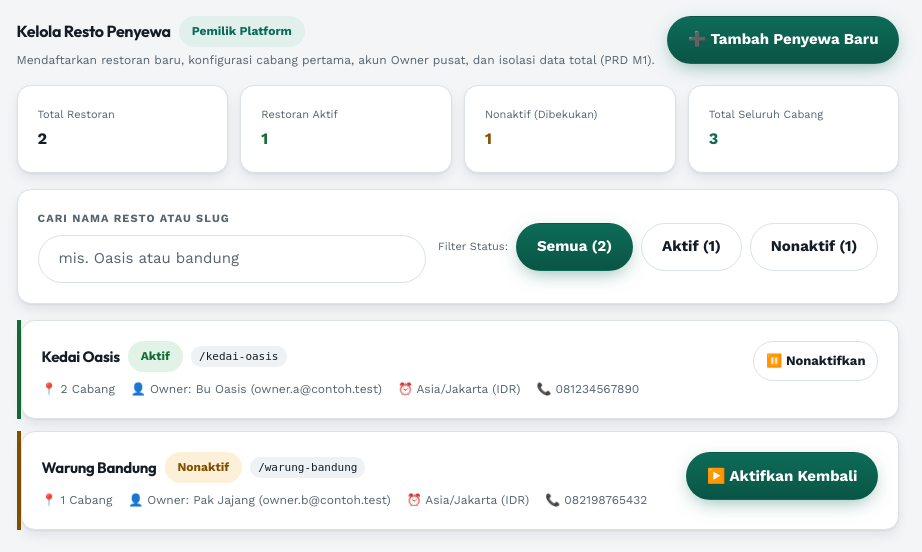
Scenario: LayarPenyewaPlatform (T9-10 / PRD M1 / ART-1) › dapat menyaring resto berdasarkan kata kunci pencarian dan status
Step 1. Type "Bandung" into the field with placeholder "mis. Oasis atau bandung" → (232, 259), box [38,235,426,283]
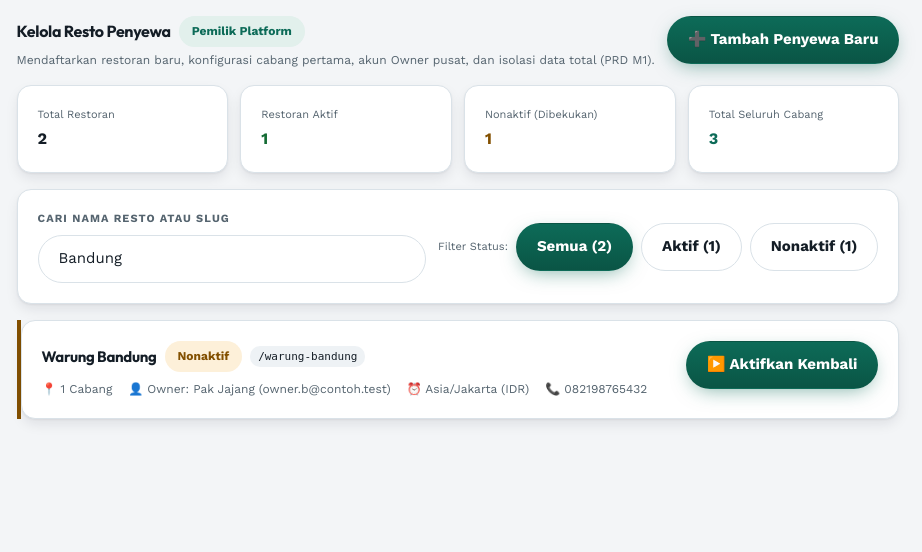
expect the heading "Warung Bandung" is shown: met, box [42,348,156,365]
expect the heading "Kedai Oasis" is gone: met
# Reset pencarian & klik filter Aktif
Step 2. Clear the field with placeholder "mis. Oasis atau bandung" → (232, 259), box [38,235,426,283]
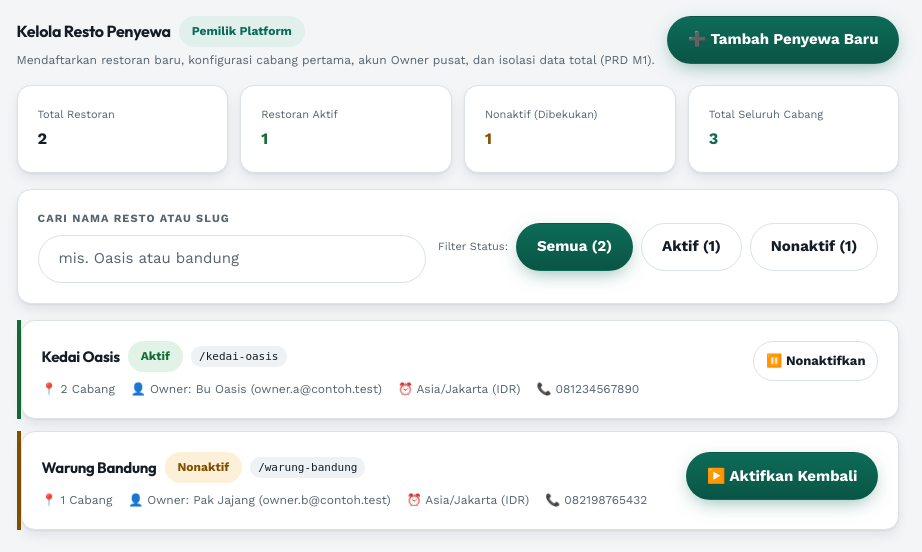
Step 3. Click the button "Aktif (1)" → click(691, 246), box [641,222,742,270]
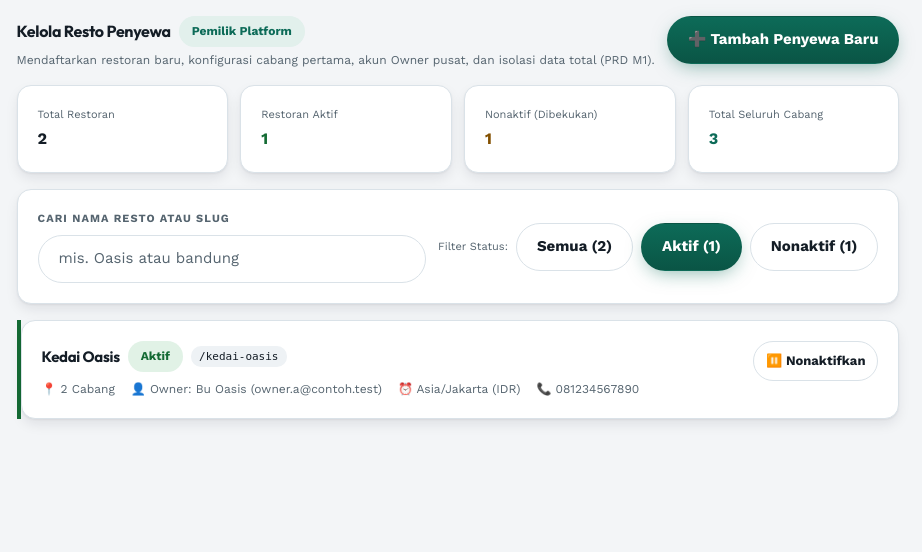
expect the heading "Kedai Oasis" is shown: met, box [42,348,120,365]
expect the heading "Warung Bandung" is gone: met
